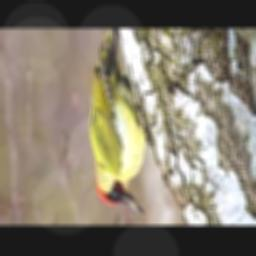Woodpecker: (88, 28, 155, 214)
